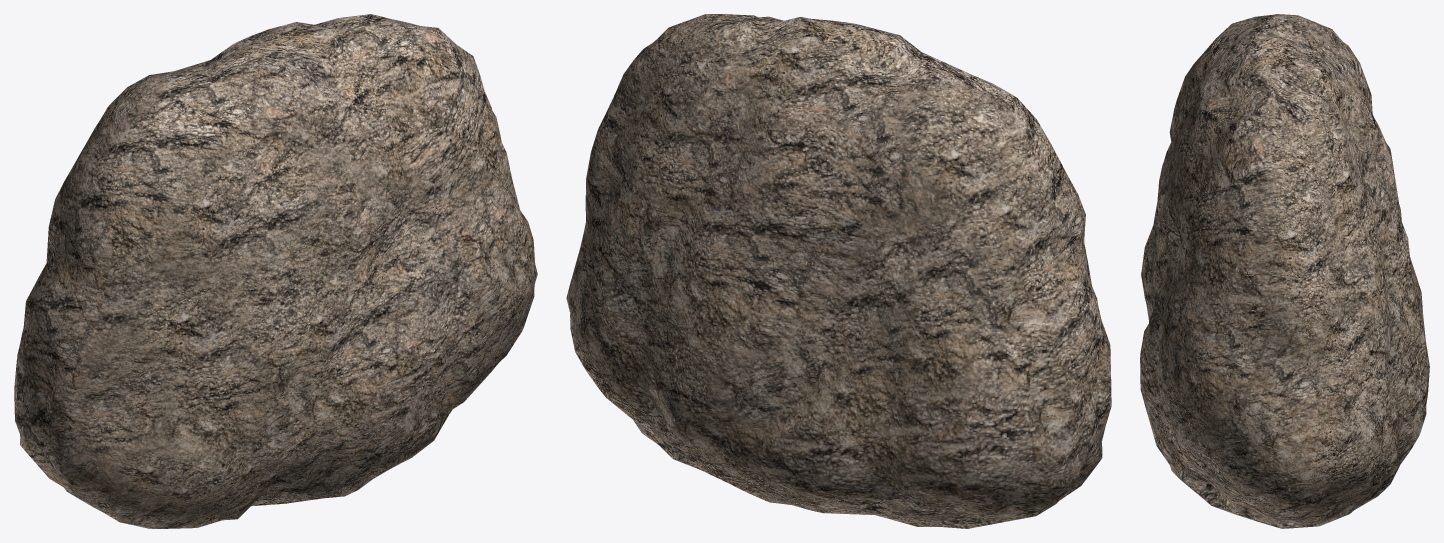
File: cliff_01.fbx
The picture shows the model from 3 angles, left to right: view 1: azimuth 30°, elevation 25°; view 2: azimuth 150°, elevation 25°; view 3: azimuth 270°, elevation 25°; orthographic projection. The views are drawn at different scales.
Parts seen in each view (by area): view 1: cliff_01_LP7; view 2: cliff_01_LP7; view 3: cliff_01_LP7.
Part boxes in pixels (x1,y1,x2,y2): cliff_01_LP7: (14, 14, 537, 528); cliff_01_LP7: (566, 14, 1111, 528); cliff_01_LP7: (1140, 14, 1429, 528).
Size of the model in its own units: 33.82 by 28.85 by 17.49.
